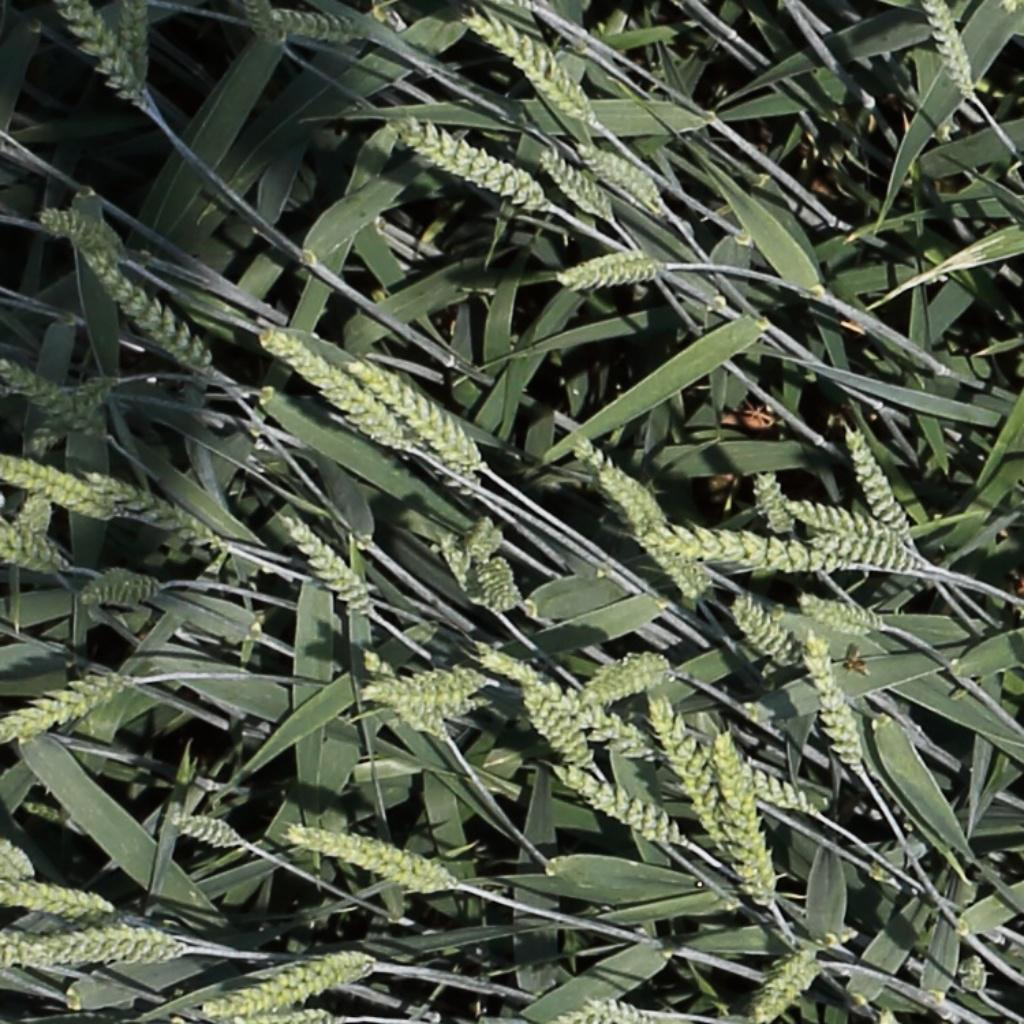0-0: (256, 328, 416, 453), (344, 349, 492, 473), (72, 245, 215, 373), (458, 12, 603, 131), (278, 822, 458, 897), (196, 946, 380, 1018), (625, 519, 859, 575), (644, 701, 734, 845), (83, 466, 228, 552), (397, 121, 542, 206), (47, 0, 149, 112), (712, 731, 772, 913), (0, 671, 140, 749), (0, 449, 129, 529), (566, 435, 668, 533), (555, 768, 679, 847), (25, 374, 130, 466), (546, 677, 660, 761), (360, 646, 455, 743), (1, 358, 112, 441), (279, 517, 371, 617), (840, 417, 915, 536), (801, 634, 864, 774), (22, 924, 190, 972), (779, 496, 911, 554), (643, 694, 712, 804), (575, 645, 678, 712), (573, 138, 669, 208), (522, 687, 597, 775), (748, 943, 829, 1024), (632, 526, 715, 601), (533, 144, 613, 219), (437, 527, 501, 620), (464, 635, 564, 694), (37, 200, 128, 264), (921, 1, 978, 102), (352, 666, 495, 706), (730, 595, 802, 670), (557, 246, 667, 291), (805, 528, 931, 567), (0, 521, 84, 576), (729, 765, 816, 817), (0, 881, 113, 917), (76, 568, 170, 610), (795, 596, 884, 636), (750, 465, 799, 534), (166, 808, 243, 850), (264, 9, 363, 40), (121, 0, 153, 93), (476, 555, 524, 617), (583, 994, 676, 1024), (545, 1001, 660, 1024), (241, 0, 285, 50), (11, 489, 55, 539), (0, 840, 40, 885), (0, 927, 39, 971), (956, 953, 992, 999), (468, 511, 504, 556)
